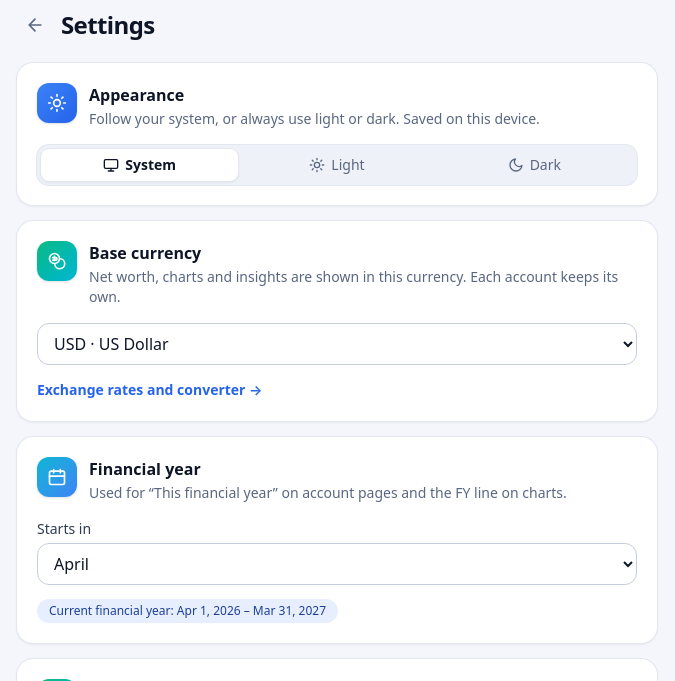
Test: SettingsPage › changes the financial year start month
Select "January" in the dropdown named "Financial year starts in" at {"x": 337, "y": 564}, box top-left (37, 543), bottom-right (637, 585)
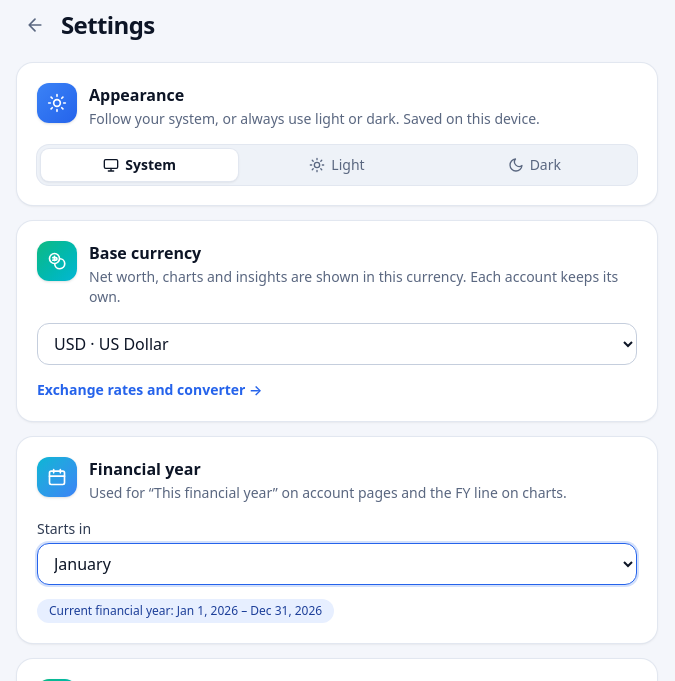
Expected: the text "Current financial year: Jan 1, 2026 – Dec 31, 2026" is shown, top-left (37, 599), bottom-right (334, 623)
